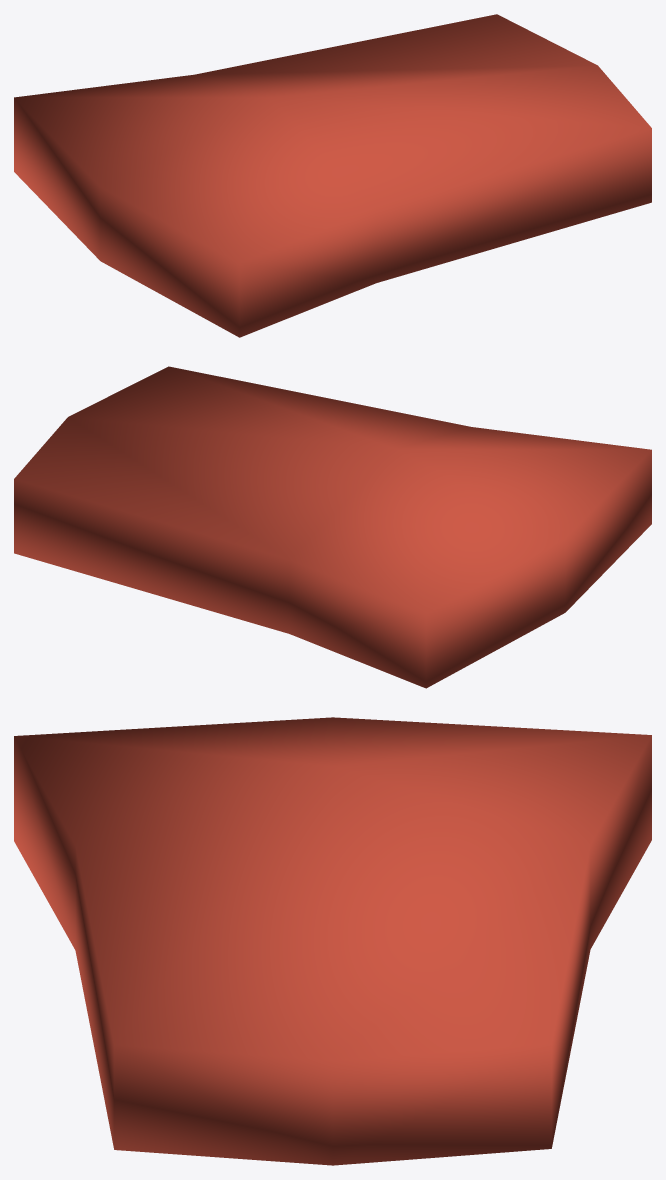
File: Transfusion.fbx
The picture shows the model from 3 angles, top to bottom: view 1: azimuth 30°, elevation 25°; view 2: azimuth 150°, elevation 25°; view 3: azimuth 270°, elevation 25°; orthographic projection. The views are drawn at different scales.
Visible parts, largest first — view 1: Transfusion; view 2: Transfusion; view 3: Transfusion.
Boxes of the visible parts, left/top/right/bottom form: Transfusion: left=14, top=14, right=651, bottom=337; Transfusion: left=14, top=366, right=651, bottom=688; Transfusion: left=14, top=717, right=651, bottom=1165.
Size of the model in its own units: 28.92 by 9.42 by 22.73.
